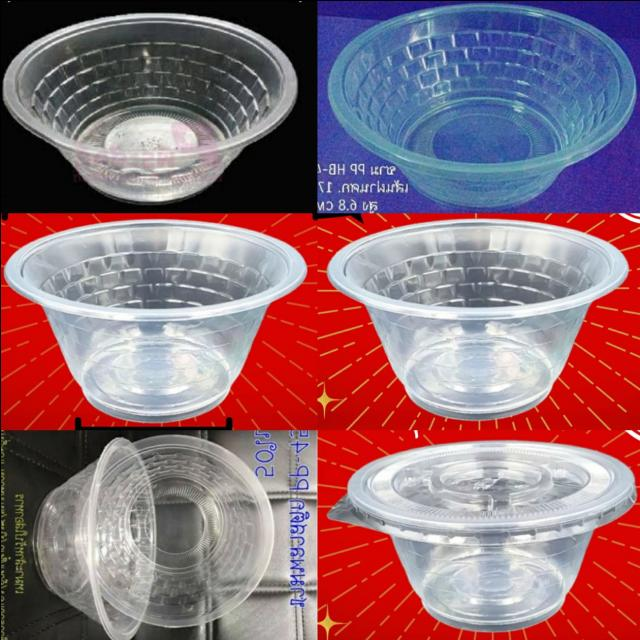plastik: (328, 3, 635, 206), (5, 219, 305, 421), (328, 219, 628, 419), (328, 440, 635, 631), (2, 13, 296, 202), (133, 434, 273, 626), (33, 436, 155, 640)
